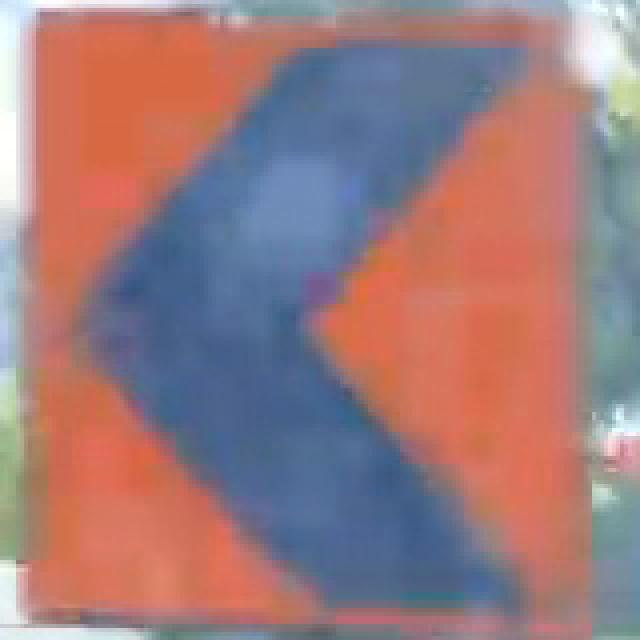curveleft_sign: (16, 0, 596, 636)
